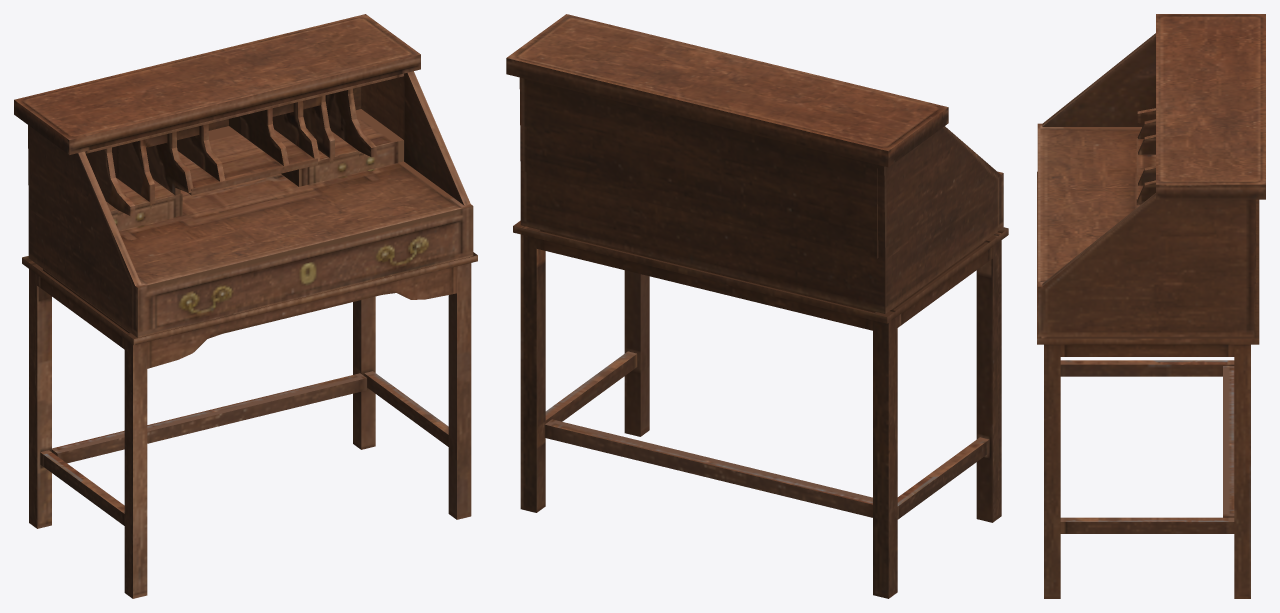
File: SecretaryDesk.fbx
3 views of the same model, side by side, from view 1: azimuth 30°, elevation 25°; view 2: azimuth 150°, elevation 25°; view 3: azimuth 270°, elevation 25° (orthographic). The views are drawn at different scales.
Visible parts, largest first — view 1: SecretaryDesk_Low; view 2: SecretaryDesk_Low; view 3: SecretaryDesk_Low.
Part boxes in pixels (<box>): SecretaryDesk_Low: <box>14,14,477,598</box>; SecretaryDesk_Low: <box>506,14,1008,598</box>; SecretaryDesk_Low: <box>1037,14,1265,598</box>.
Bounding box in the file's own units: 1.21 × 1.38 × 0.686.
